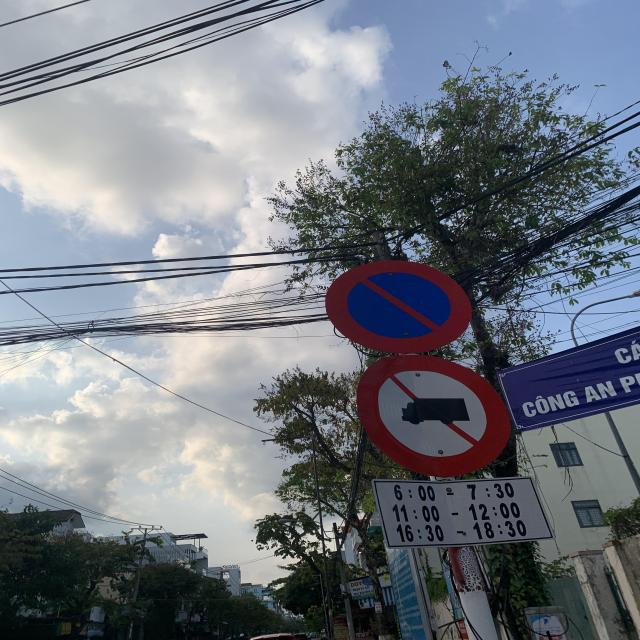Cam_Dau_Xe: (324, 260, 474, 356)
Cam_Xe_Tai: (357, 354, 511, 480)
